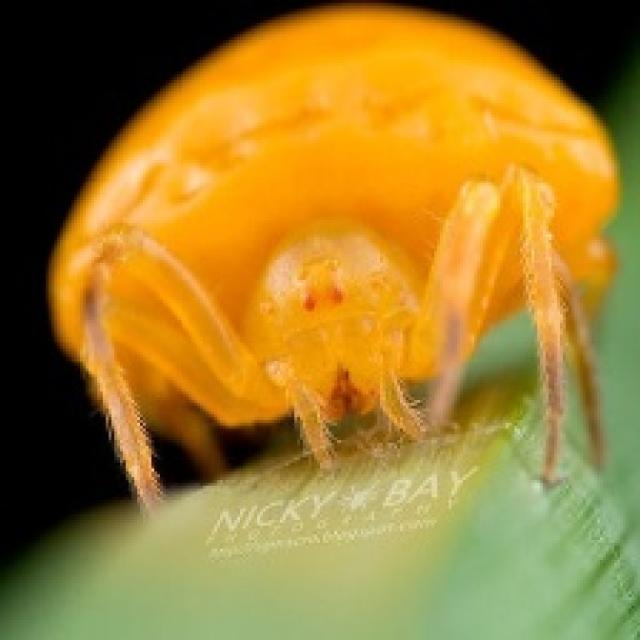Non venomous spider: (51, 9, 624, 546)
